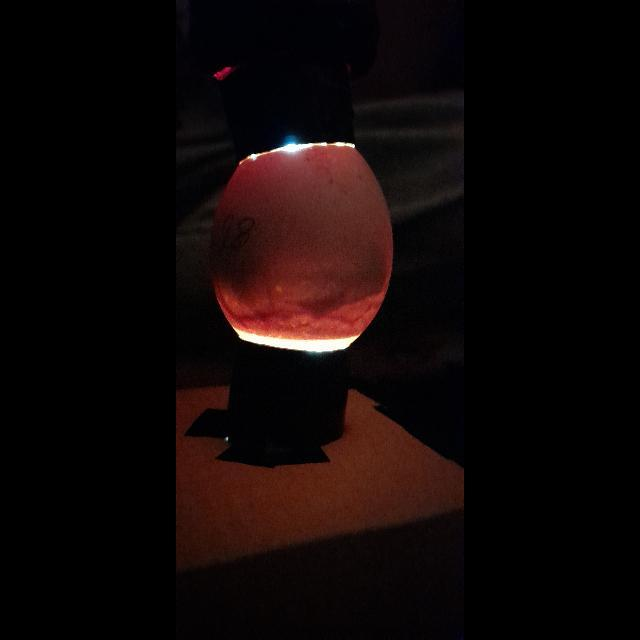Fertile: (204, 146, 396, 354)
